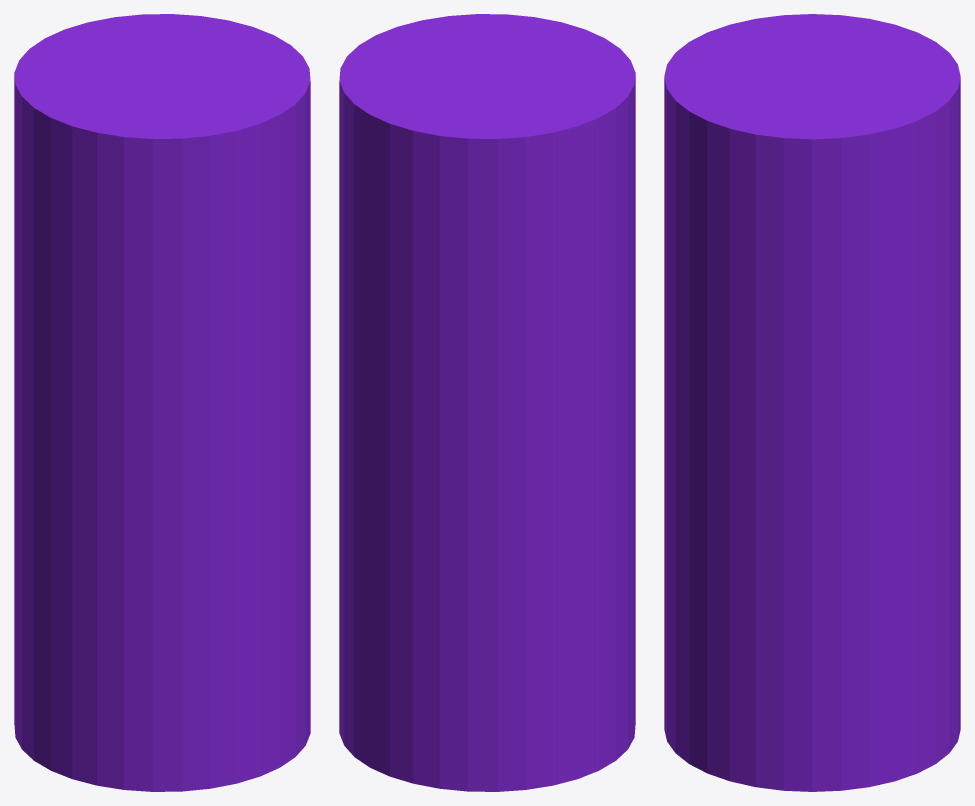
The model's file is Robot Thigh Right.fbx.
3 views of the same model, side by side, from view 1: azimuth 30°, elevation 25°; view 2: azimuth 150°, elevation 25°; view 3: azimuth 270°, elevation 25° (orthographic).
Visible parts, largest first — view 1: Cylinder; view 2: Cylinder; view 3: Cylinder.
Boxes of the visible parts, x1,y1,x2,y2 form: Cylinder: (14,14,310,791); Cylinder: (339,14,635,791); Cylinder: (664,14,960,791).
Size of the model in its own units: 140 by 340 by 140.
